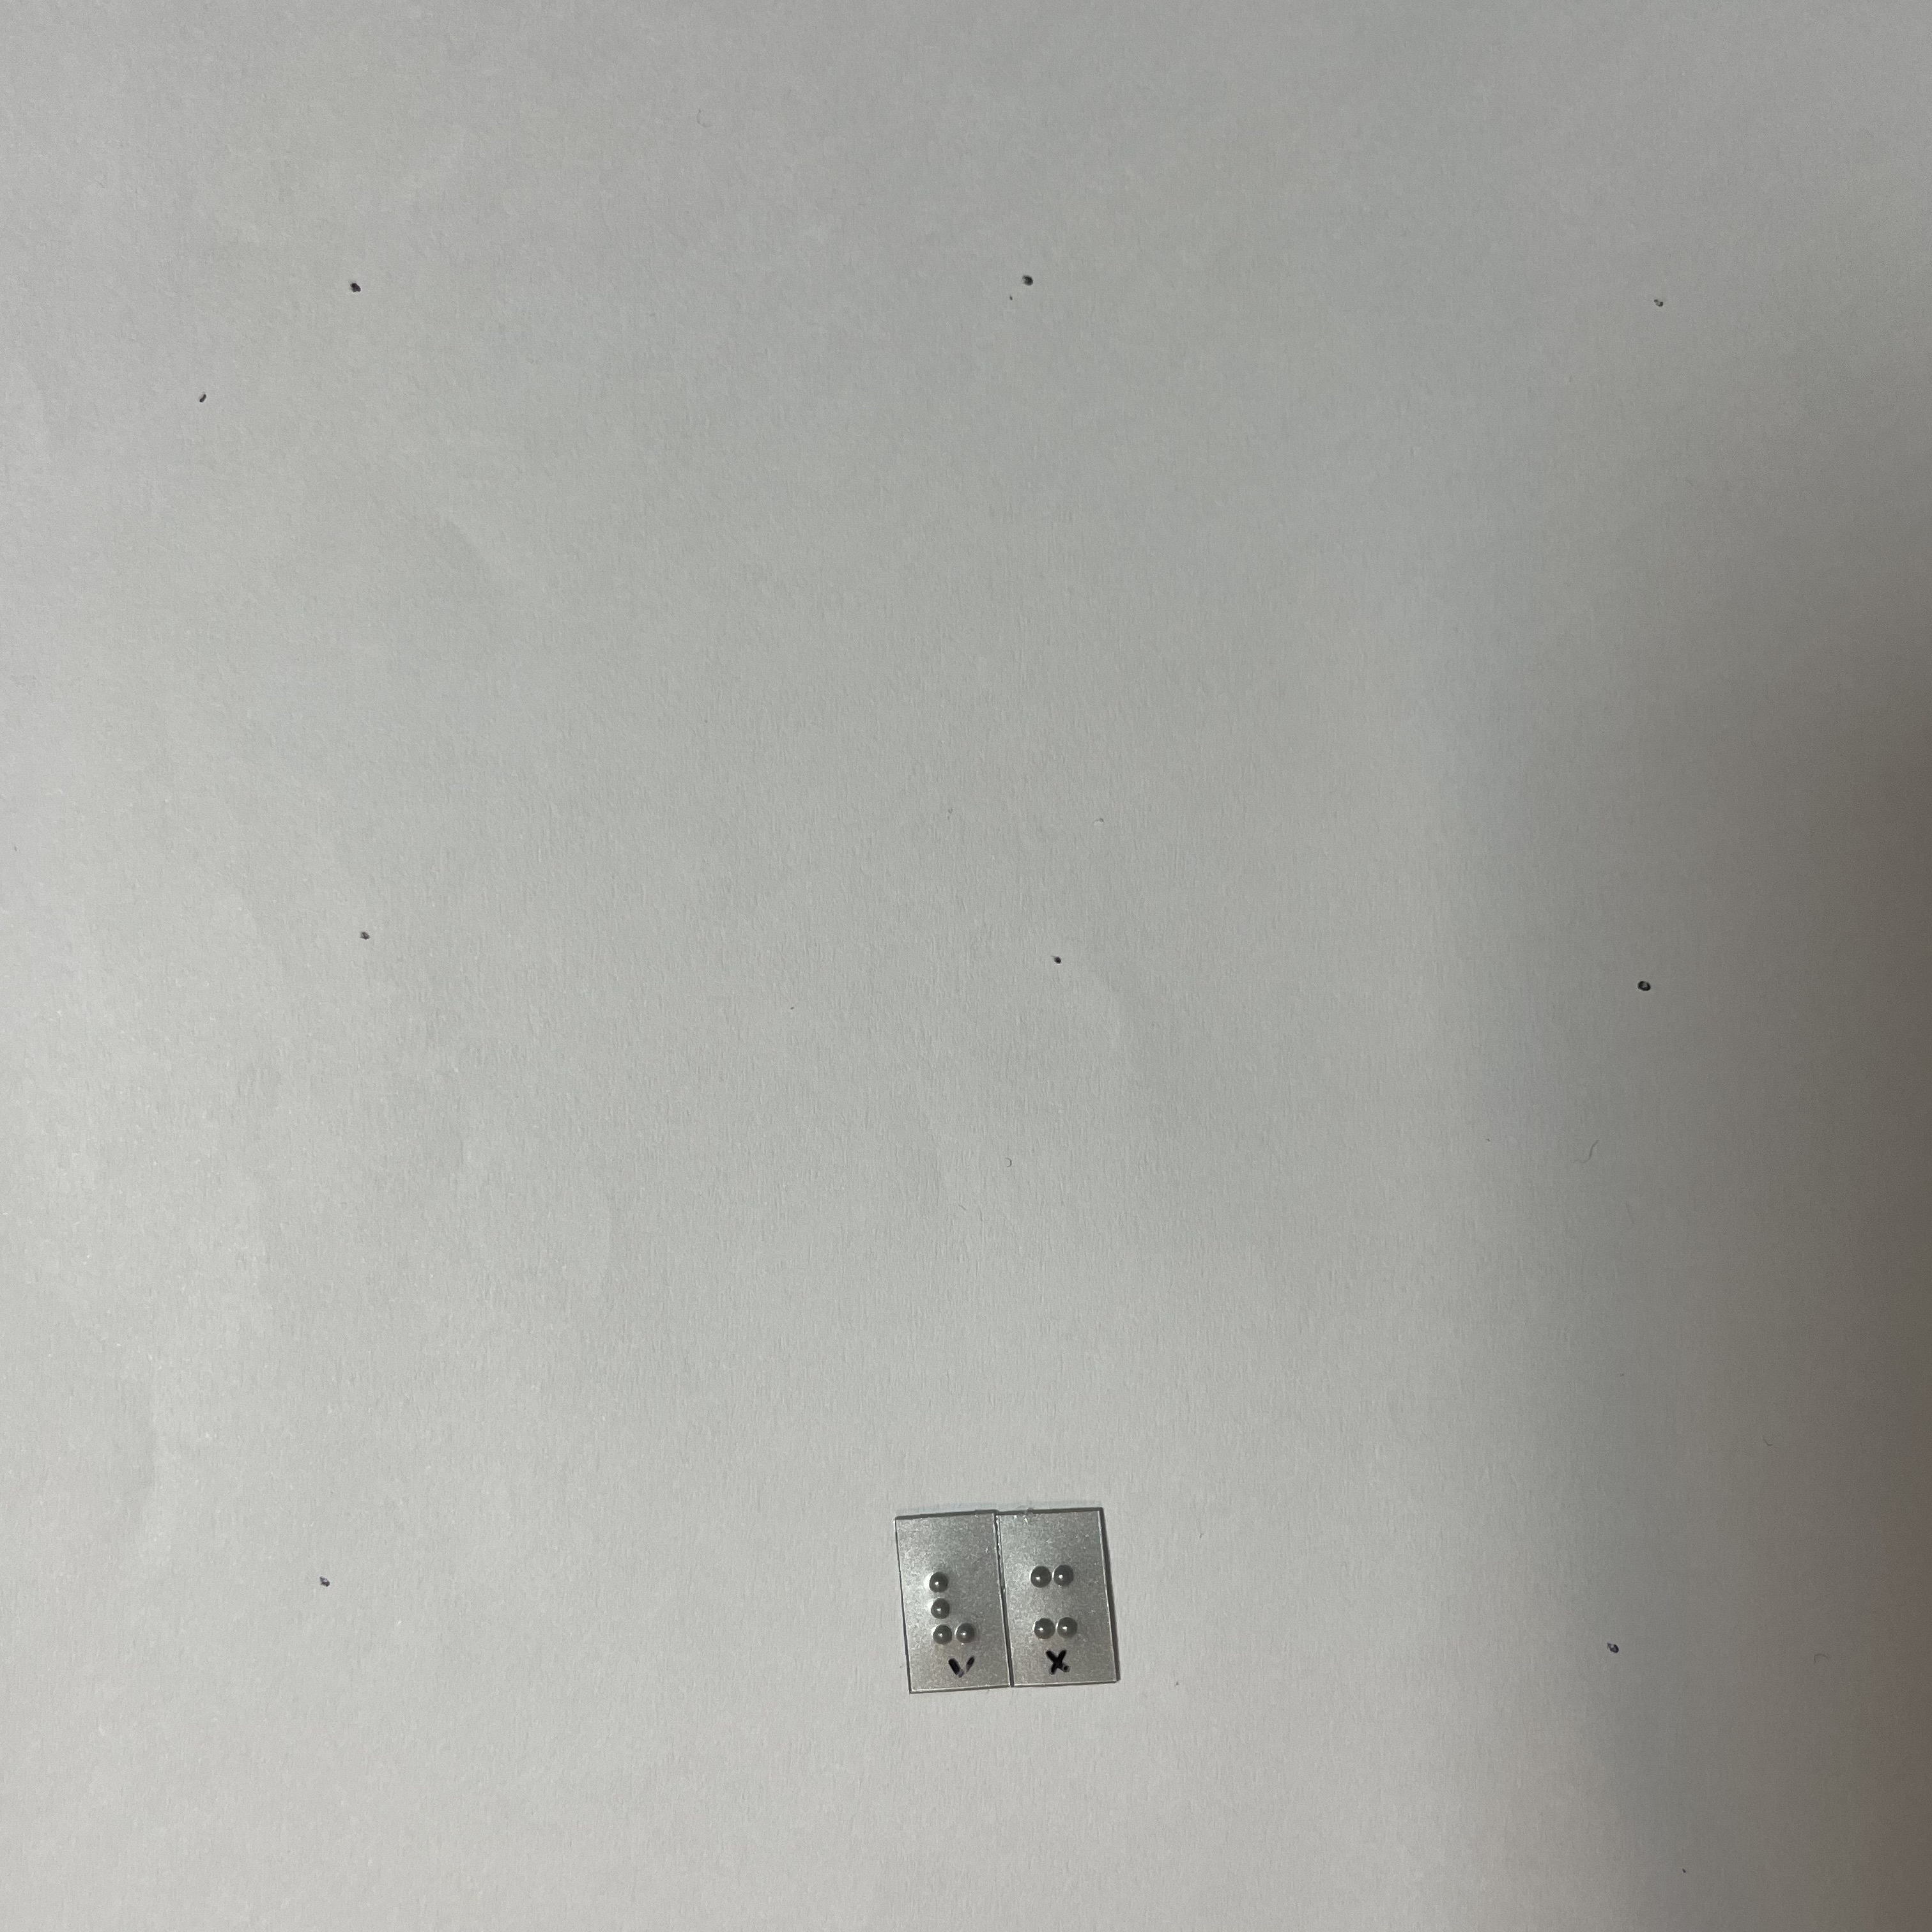v: (924, 1562, 985, 1648)
x: (1023, 1551, 1091, 1652)
